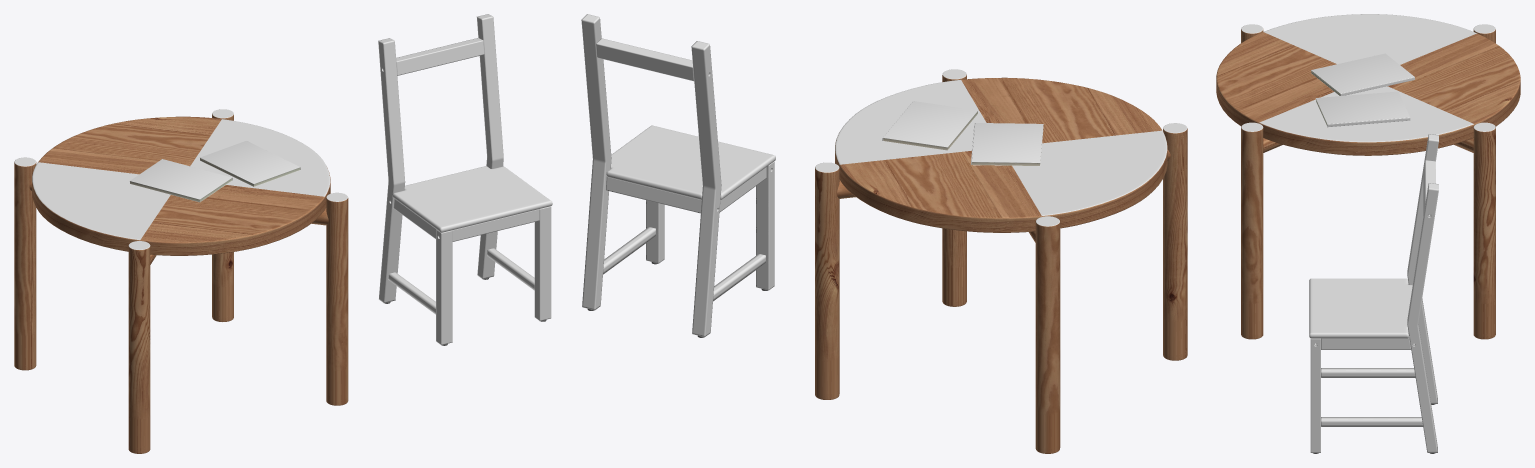
File: asdawd.fbx
3 views of the same model, side by side, from view 1: azimuth 30°, elevation 25°; view 2: azimuth 150°, elevation 25°; view 3: azimuth 270°, elevation 25° (orthographic). The views are drawn at different scales.
Parts seen in each view (by area): view 1: Table, Legs, ChairWood_Structure, ChairWood_Seat, Book A4 1cm Thickness, Book A4 1cm Thickness.001; view 2: Table, Legs, ChairWood_Structure, ChairWood_Seat, Book A4 1cm Thickness.001, Book A4 1cm Thickness; view 3: Table, Legs, ChairWood_Structure, ChairWood_Seat, Book A4 1cm Thickness, Book A4 1cm Thickness.001, Support.
Boxes of the visible parts, x1,y1,x2,y2 form: Table: [32, 116, 330, 255]; Legs: [14, 109, 348, 453]; ChairWood_Structure: [378, 14, 551, 345]; ChairWood_Seat: [392, 166, 552, 232]; Book A4 1cm Thickness: [130, 159, 232, 202]; Book A4 1cm Thickness.001: [200, 141, 300, 186]; Table: [835, 77, 1167, 232]; Legs: [815, 69, 1187, 453]; ChairWood_Structure: [581, 14, 774, 336]; ChairWood_Seat: [606, 125, 775, 199]; Book A4 1cm Thickness.001: [882, 101, 977, 150]; Book A4 1cm Thickness: [971, 123, 1043, 166]; Table: [1216, 14, 1520, 155]; Legs: [1241, 24, 1495, 339]; ChairWood_Structure: [1310, 134, 1438, 452]; ChairWood_Seat: [1309, 278, 1412, 338]; Book A4 1cm Thickness: [1311, 53, 1414, 95]; Book A4 1cm Thickness.001: [1315, 91, 1410, 127]; Support: [1263, 138, 1473, 152].
Bounding box in the file's own units: 184 × 97.86 × 101.
11 materials, 3 textured.
